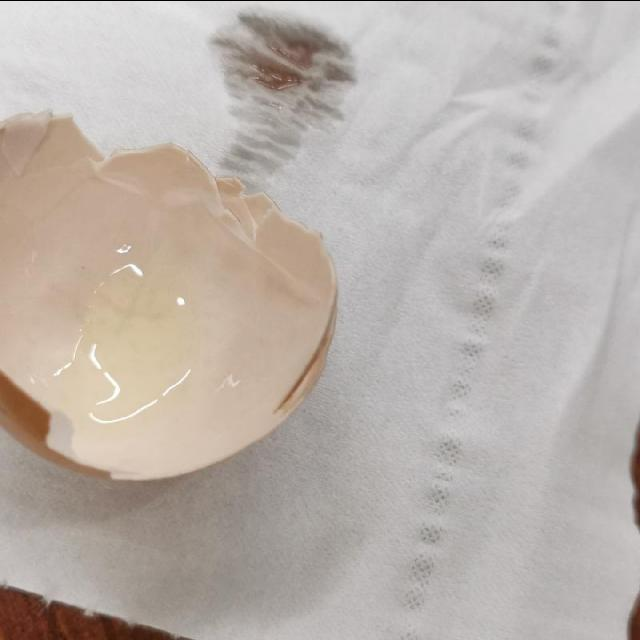egg shell: (1, 107, 337, 484)
